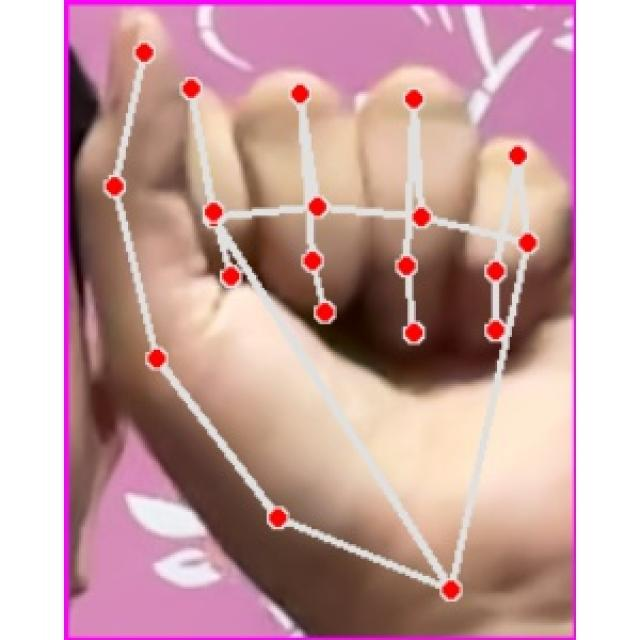A: (62, 0, 574, 636)
